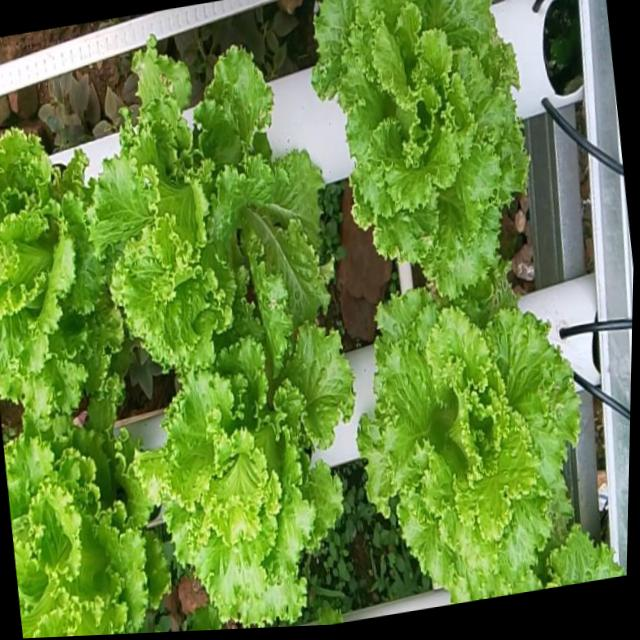Mature: (92, 7, 327, 379), (356, 279, 606, 604), (134, 325, 354, 629), (311, 0, 528, 303), (3, 404, 168, 638), (0, 131, 121, 421)
